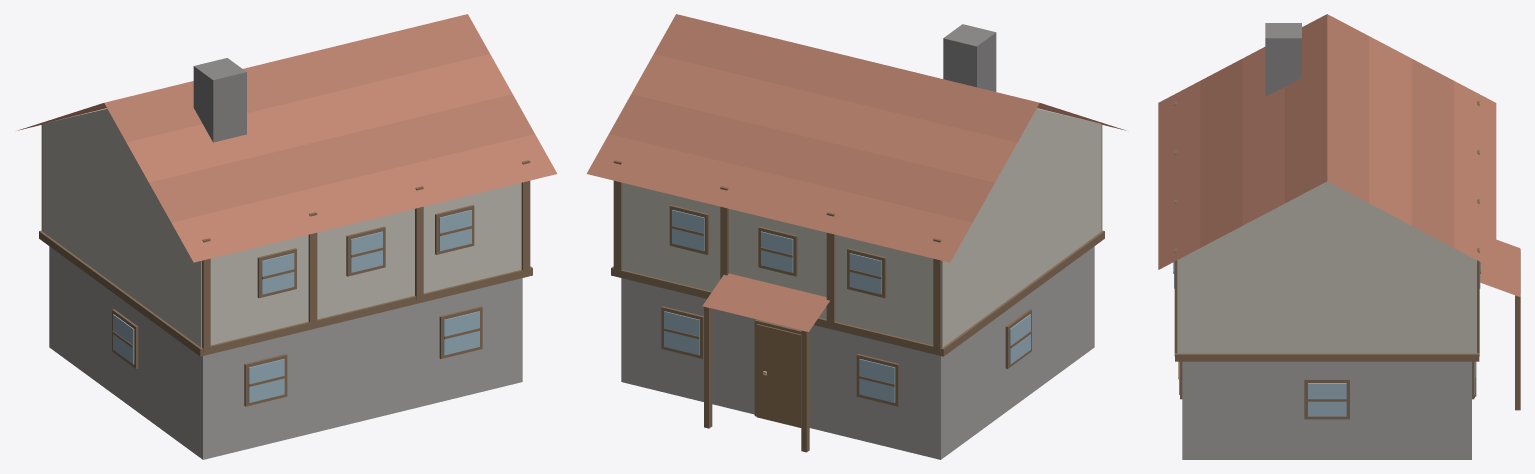
File: farmhouse.glb
3 views of the same model, side by side, from view 1: azimuth 30°, elevation 25°; view 2: azimuth 150°, elevation 25°; view 3: azimuth 270°, elevation 25° (orthographic). The views are drawn at different scales.
Parts seen in each view (by area): view 1: farmhouse; view 2: farmhouse; view 3: farmhouse.
Part boxes in pixels (left/top/right/bottom): farmhouse: left=18, top=14, right=557, bottom=459; farmhouse: left=586, top=14, right=1125, bottom=459; farmhouse: left=1158, top=14, right=1520, bottom=459.
Size of the model in its own units: 8.2 by 7.2 by 7.51.
